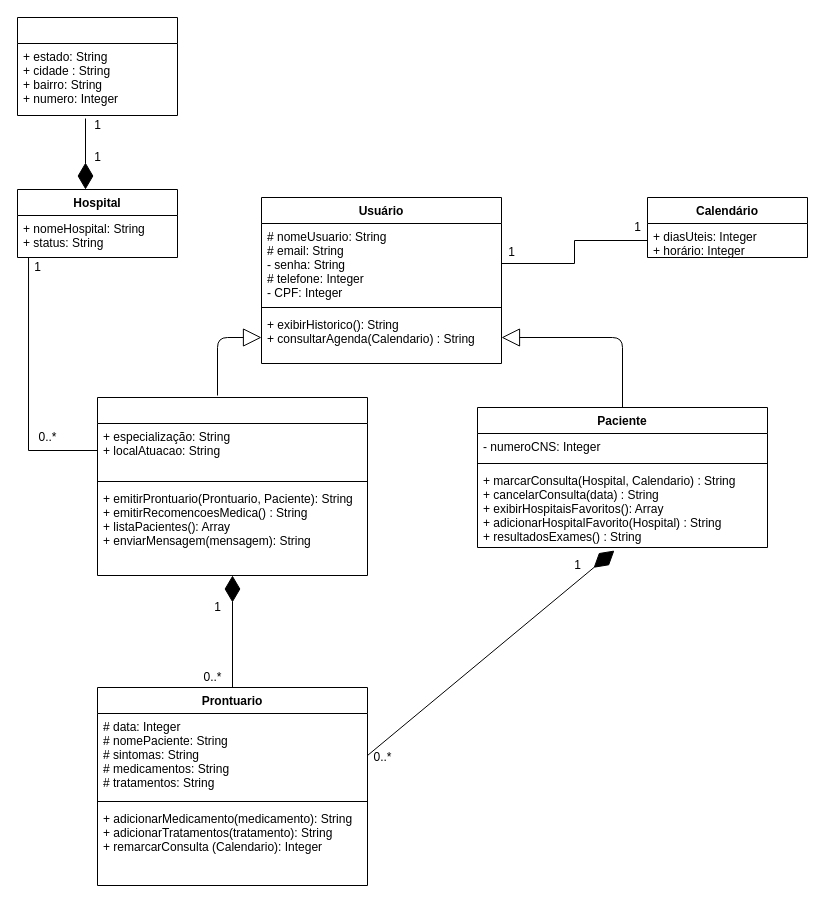
Some shapes in this 825 by 906 pixel diagram are drawn without their labels. The shapes that lost their labels are listed below. From the top down, each one's box as (x1, y1, x2, y2) in pixels, then its label:
(16, 16, 178, 116): Endereço
(96, 396, 368, 576): Profissional Saude
